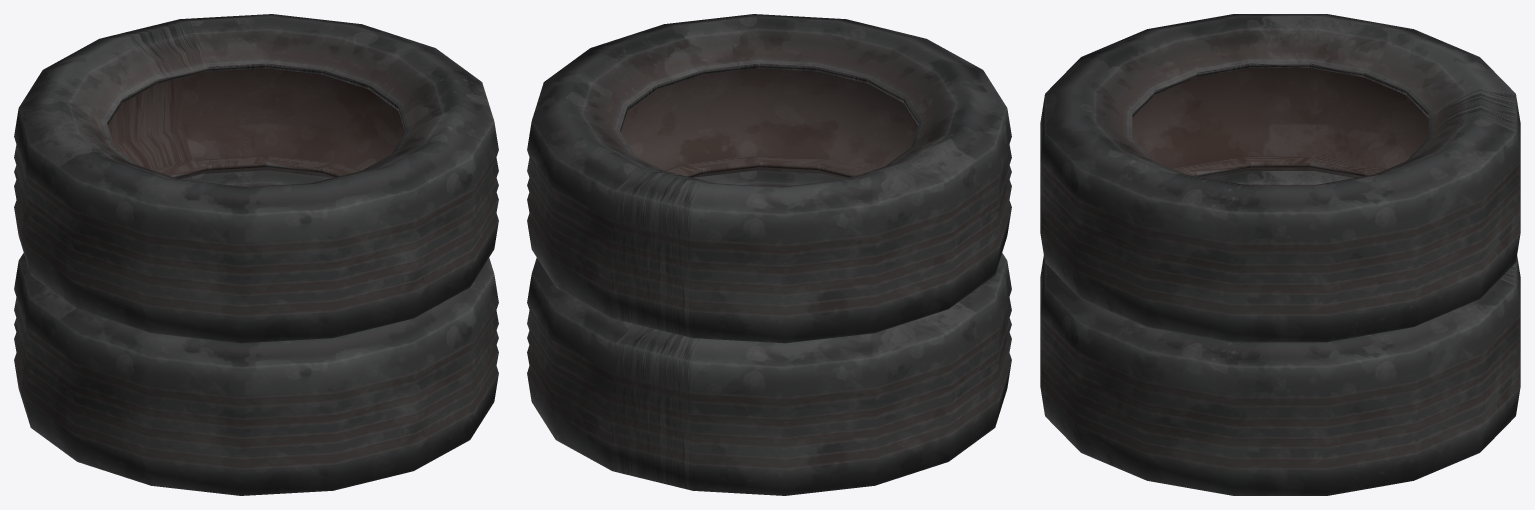
The model's file is BanTumpuk.fbx.
3 views of the same model, side by side, from view 1: azimuth 30°, elevation 25°; view 2: azimuth 150°, elevation 25°; view 3: azimuth 270°, elevation 25° (orthographic).
Visible parts, largest first — view 1: car_tire_02.001; view 2: car_tire_02.001; view 3: car_tire_02.001.
Part boxes in pixels (bbox=[...]): car_tire_02.001: bbox=[14, 14, 498, 495]; car_tire_02.001: bbox=[527, 14, 1011, 495]; car_tire_02.001: bbox=[1040, 14, 1520, 495].
Size of the model in its own units: 67.36 by 67.36 by 47.43.
Materials: 1 (1 with a texture image).
